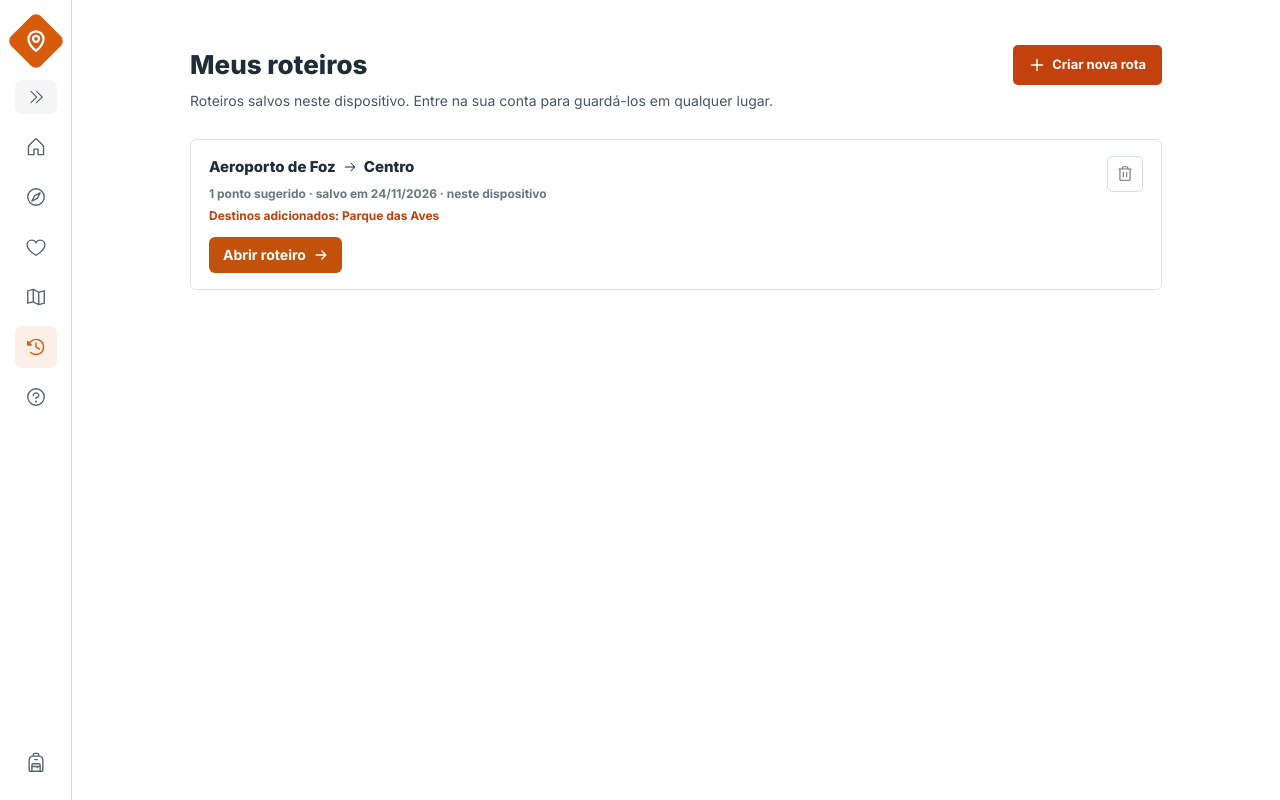
Test: tela Meus roteiros › lista os roteiros do dispositivo com os destinos adicionados e os remove
The width and height of the screenshot is (1280, 800).
Check: the text "1 ponto sugerido · salvo em 24/11/2026 · neste dispositivo" is shown, box [209,184,547,202]
Check: the text "Destinos adicionados: Parque das Aves" is shown, box [209,208,439,222]
What coordinates should you click on to do the following:
click the button named "Remover roteiro Aeroporto de Foz para Centro"
I would click on:
 (1125, 174)
Its box is [1107,156,1143,192].
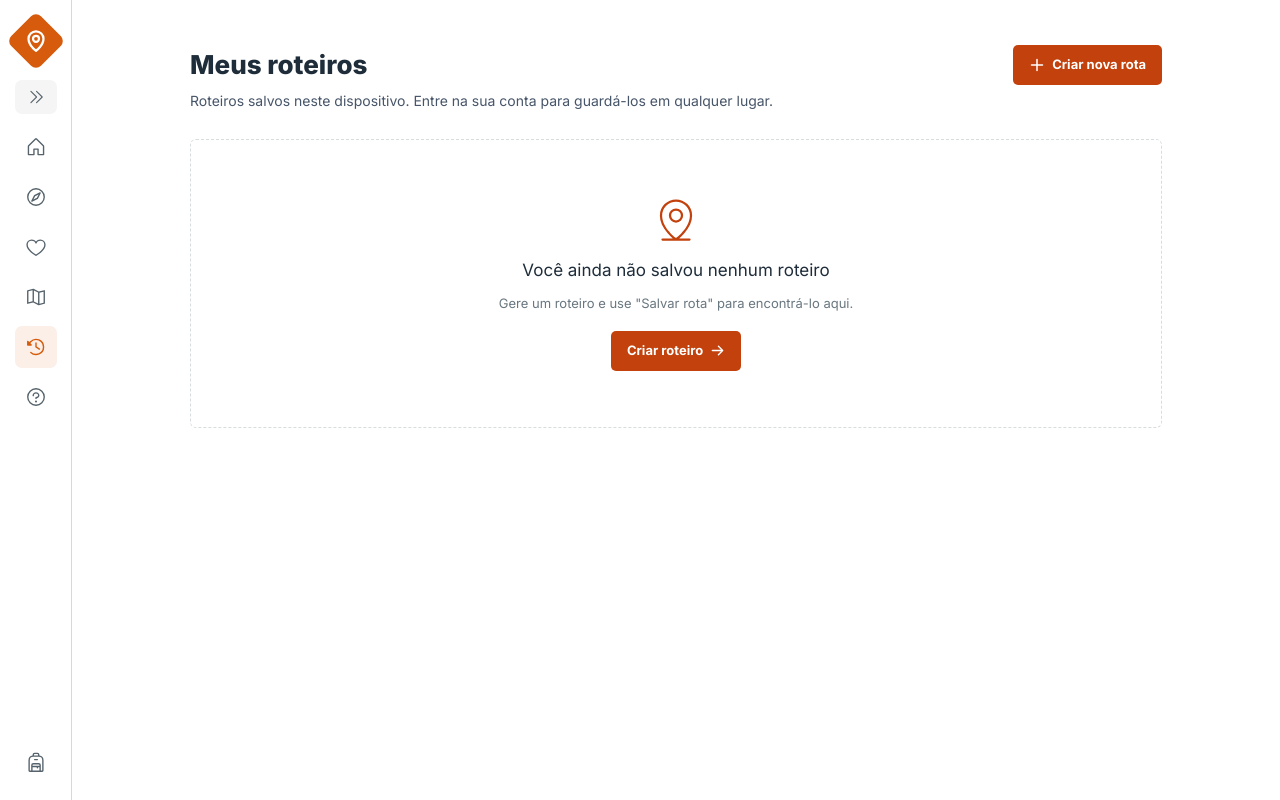
Check: the heading "Você ainda não salvou nenhum roteiro" is shown, box [522,258,830,284]
